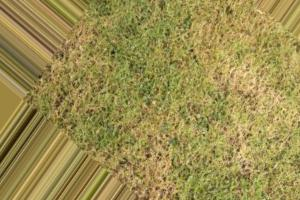patch: (126, 133, 172, 181), (231, 58, 264, 120)
